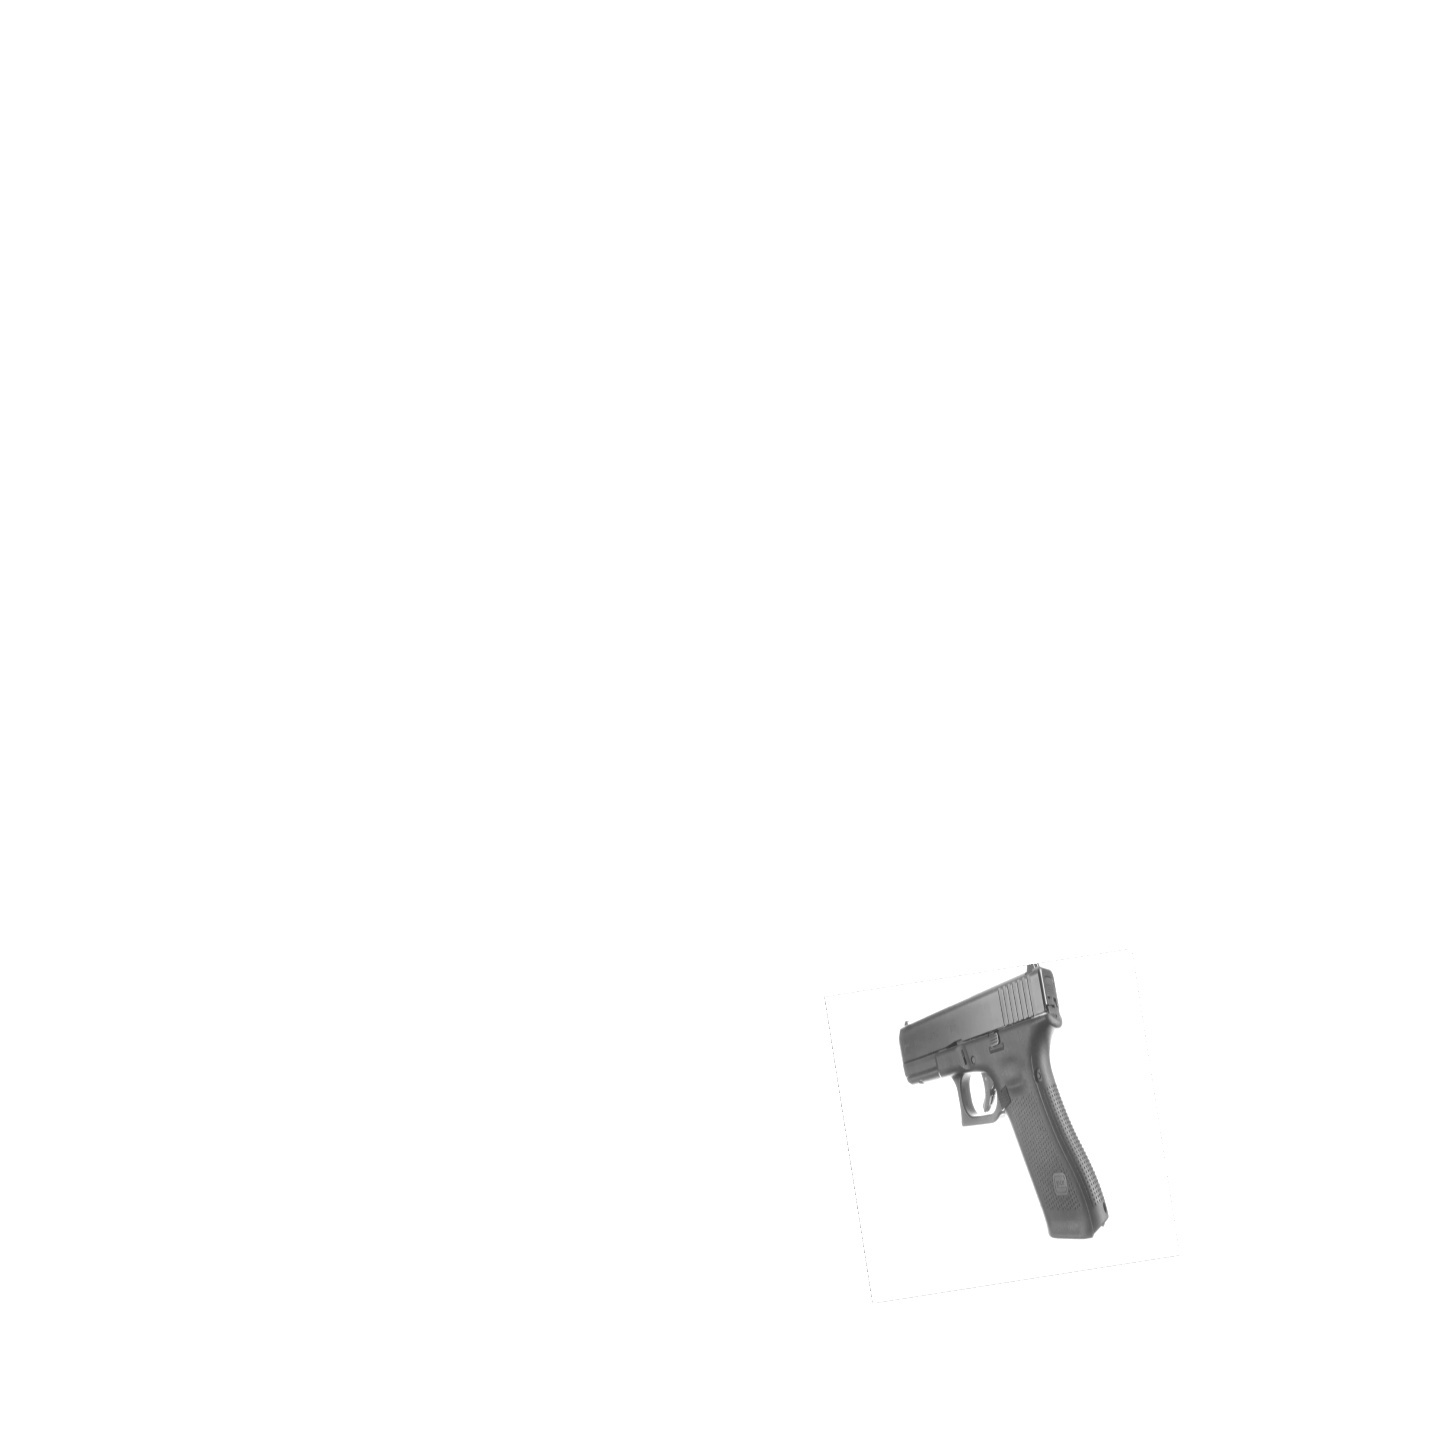gun: (899, 963, 1110, 1240)
